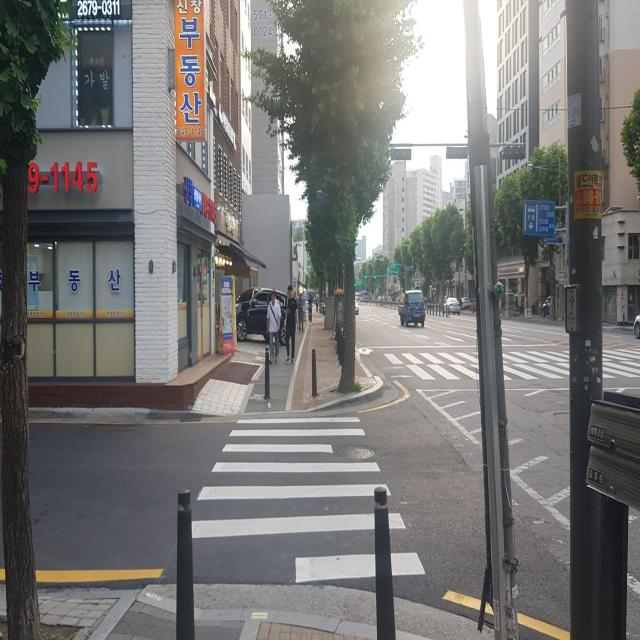횡단보도: (191, 416, 426, 584), (366, 344, 640, 385)
